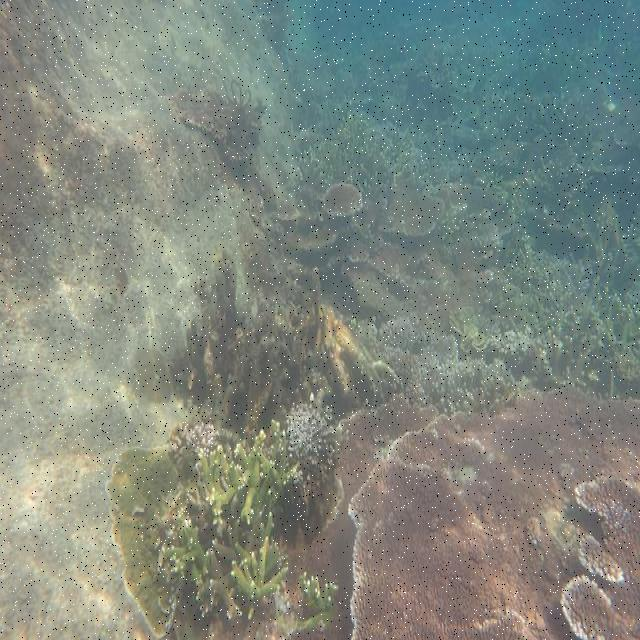reefs: (346, 386, 639, 639), (287, 394, 440, 638), (161, 418, 298, 620)
sea-floor: (0, 2, 295, 638)
